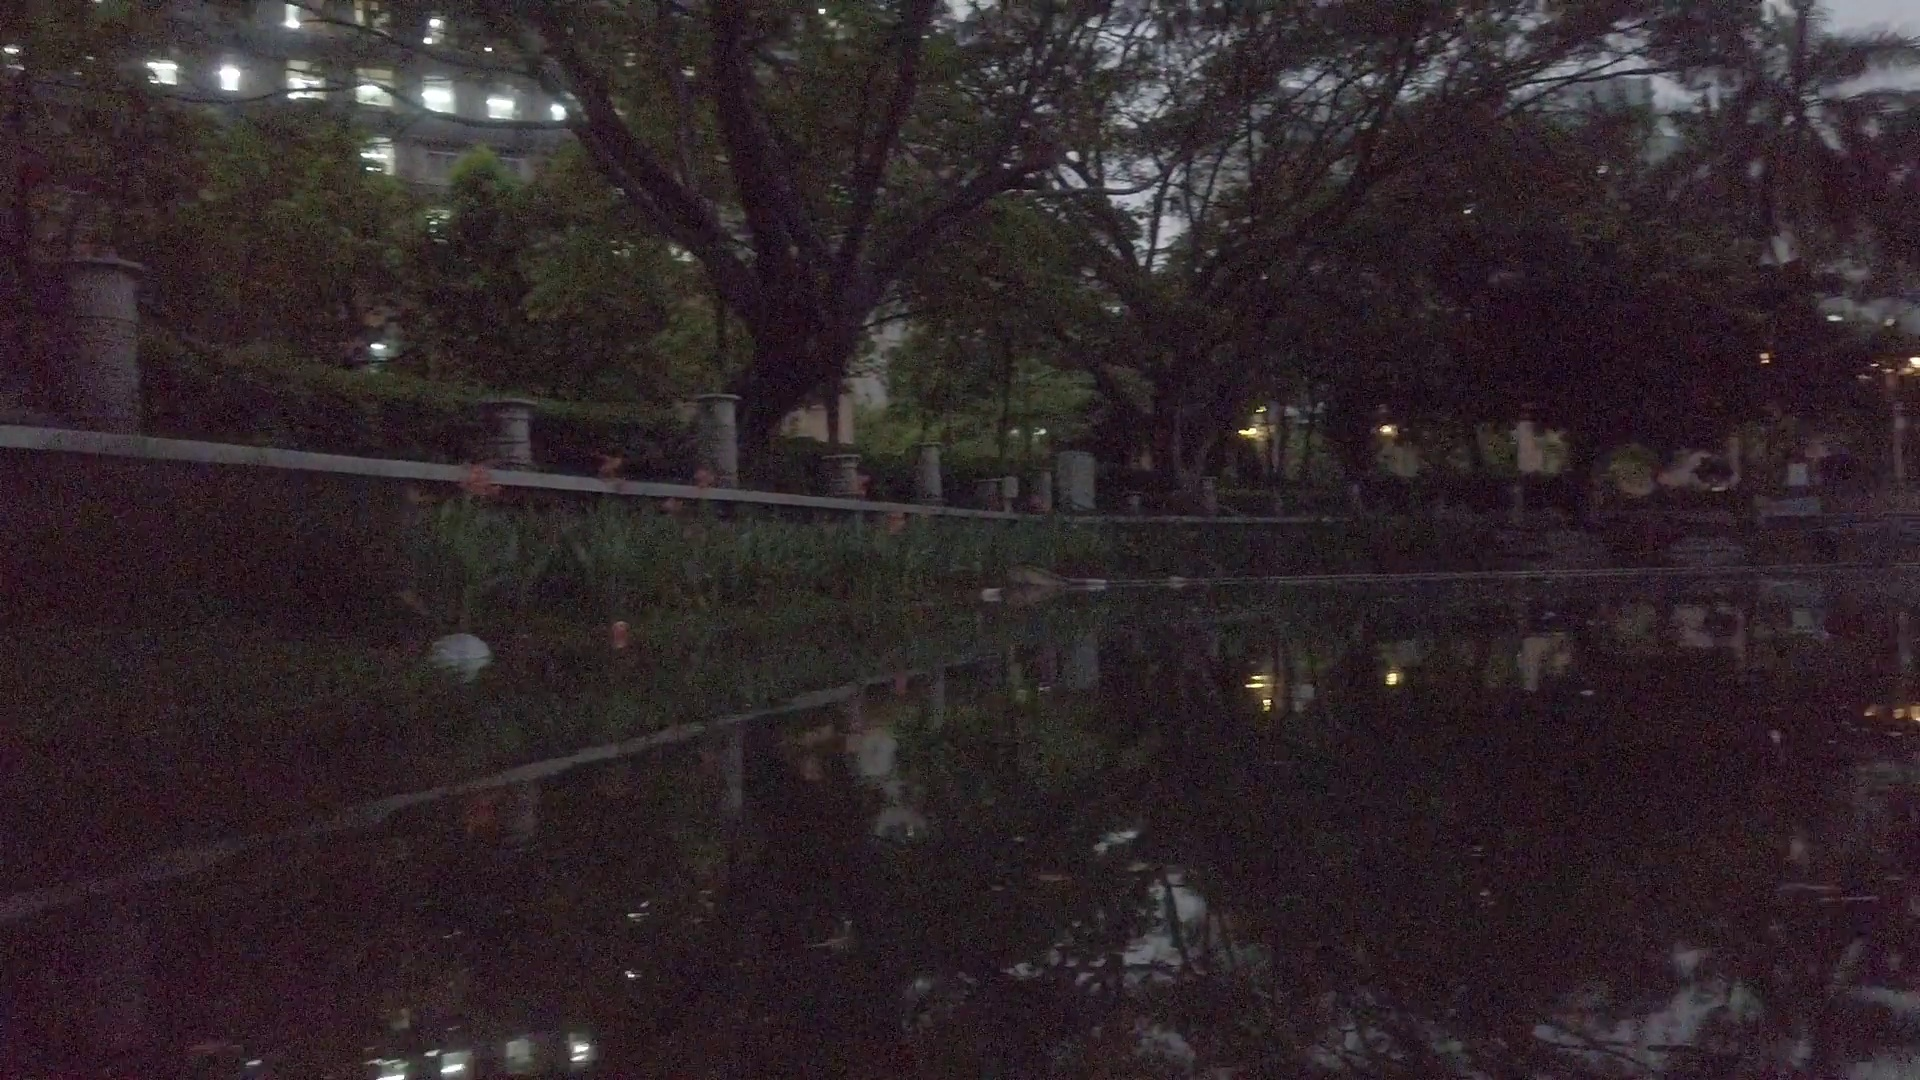bottle: (604, 620, 633, 642), (1083, 575, 1108, 593), (1162, 574, 1188, 589), (978, 583, 1004, 597)
plastic: (429, 629, 484, 670)
